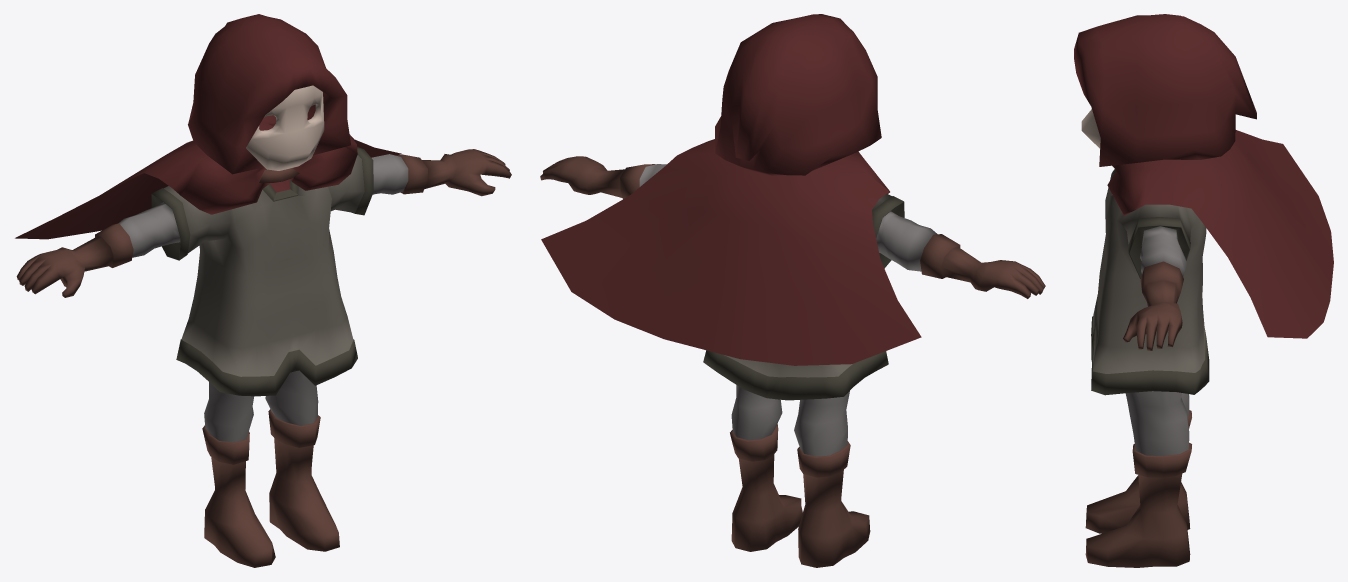
The model's file is Personnage.fbx.
3 views of the same model, side by side, from view 1: azimuth 30°, elevation 25°; view 2: azimuth 150°, elevation 25°; view 3: azimuth 270°, elevation 25° (orthographic). The views are drawn at different scales.
Parts seen in each view (by area): view 1: Body, Cape, Masque; view 2: Cape, Body; view 3: Body, Cape, Masque.
Boxes of the visible parts, x1,y1,x2,y2 form: Body: (16,14,511,567); Cape: (15,123,401,239); Masque: (246,85,324,170); Cape: (541,139,921,365); Body: (540,14,1045,567); Body: (1074,14,1256,567); Cape: (1107,130,1333,338); Masque: (1081,109,1100,148).
Size of the model in its own units: 228 by 230 by 103.
